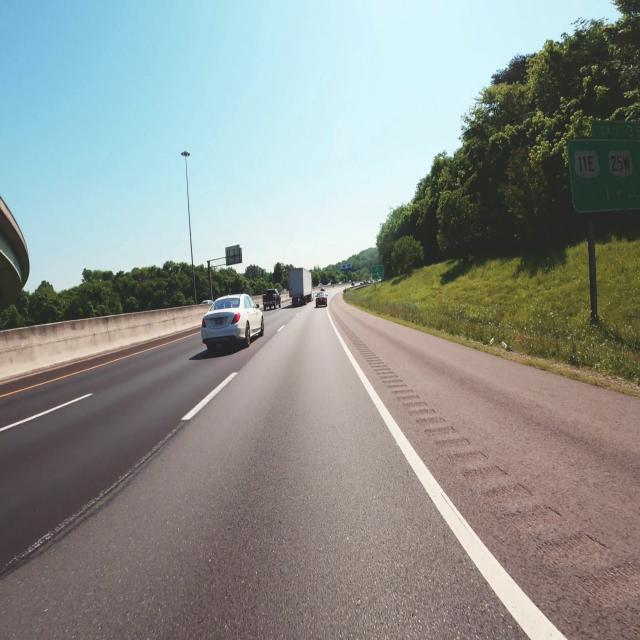car: (201, 294, 263, 351), (316, 290, 327, 307)
